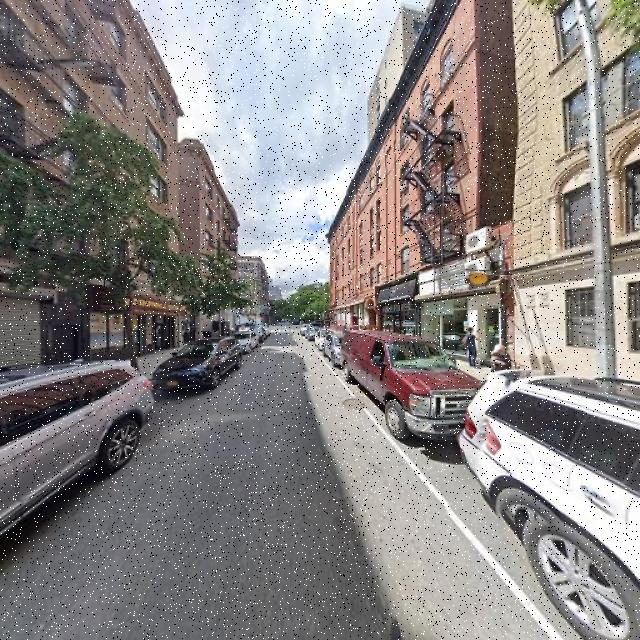Building: (1, 1, 235, 388), (330, 1, 474, 368), (522, 1, 640, 409)
